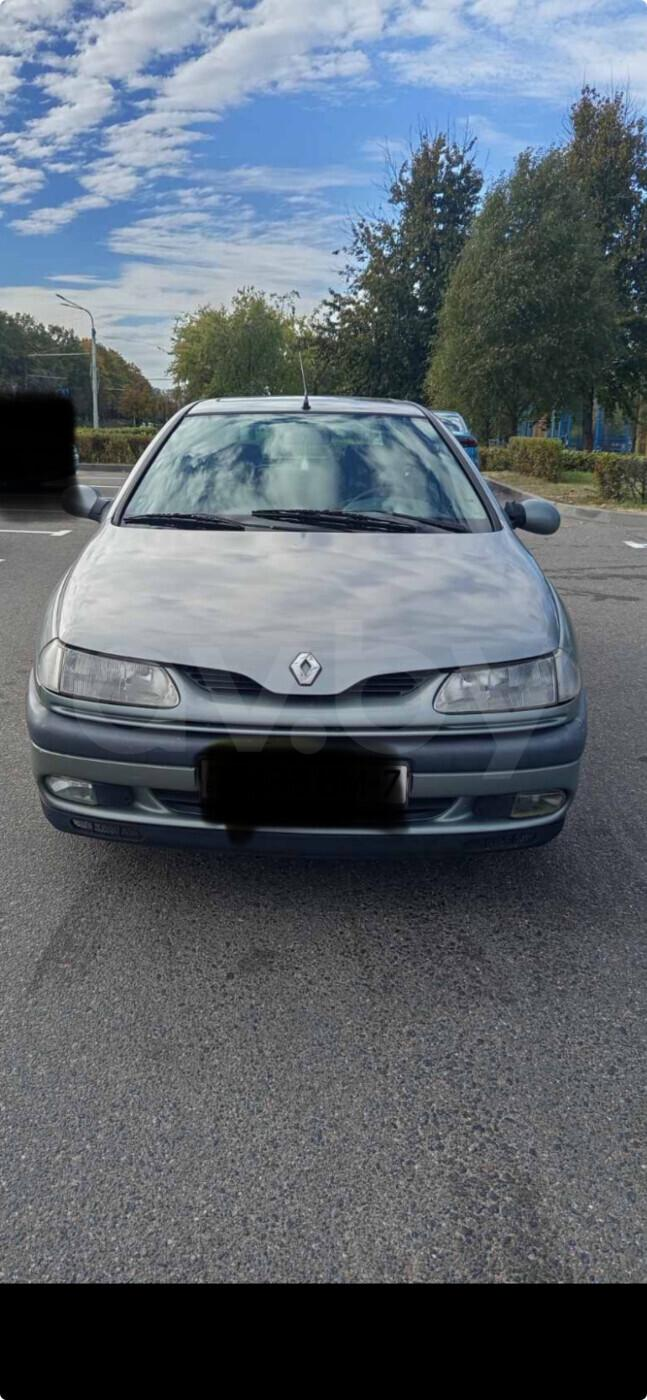Lahuna_1993-1999: (20, 378, 600, 876)
